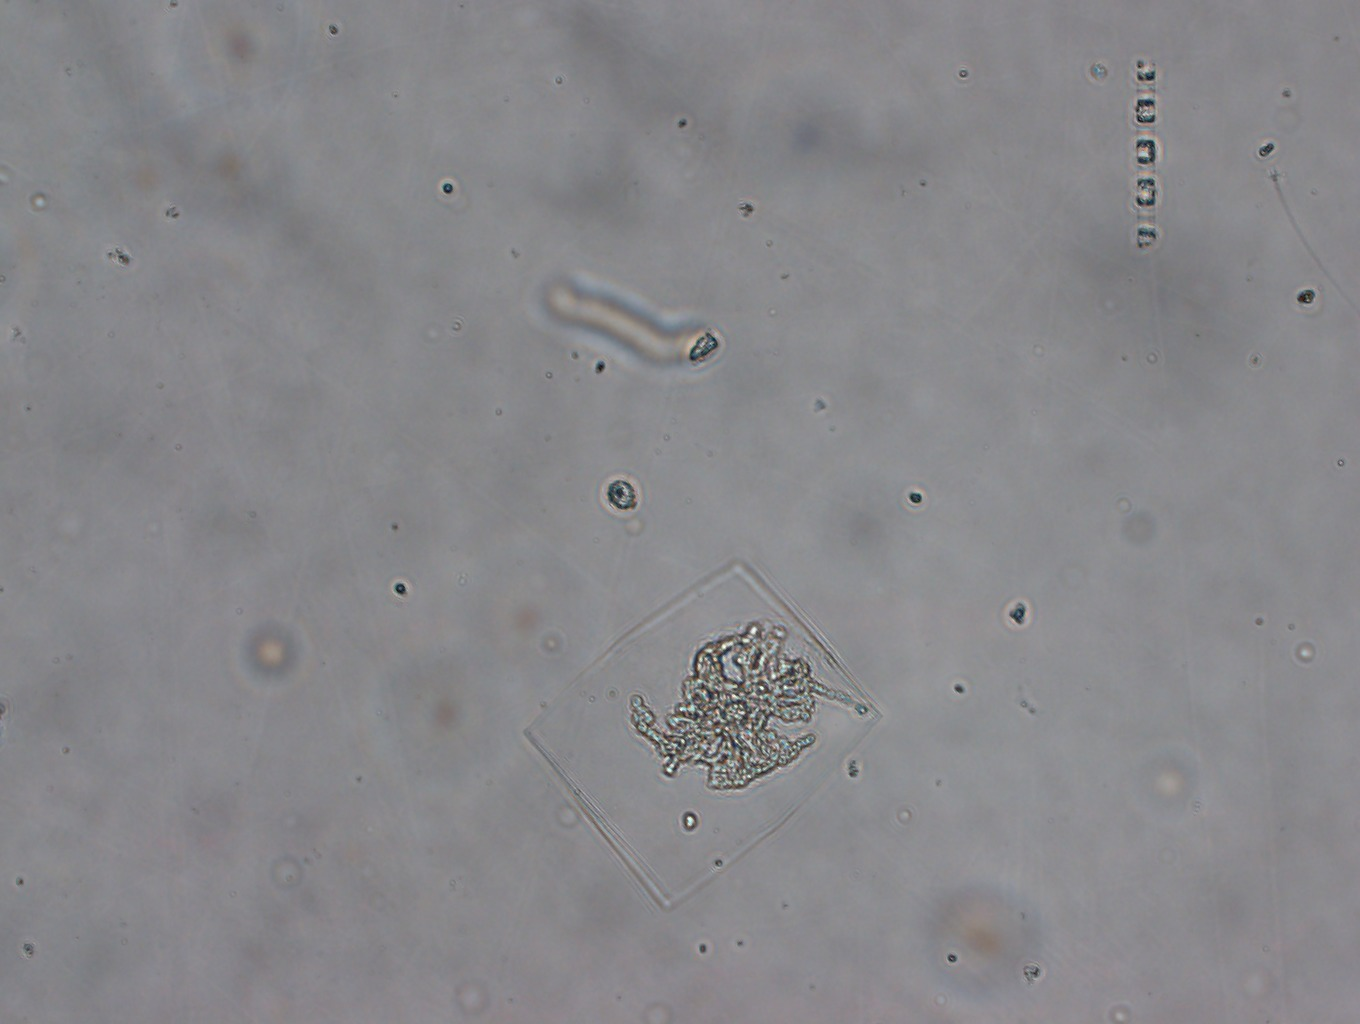helicotheca: (522, 555, 885, 916)
skeletonema: (1130, 56, 1161, 256)
